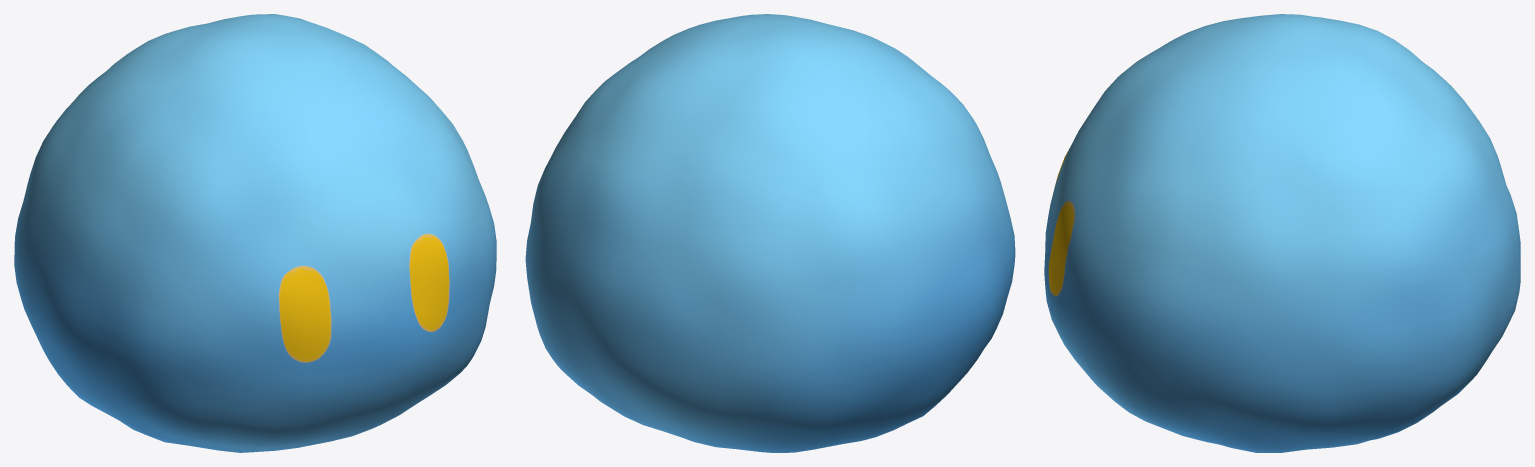
File: 1st Floor Monster Slime.fbx
3 views of the same model, side by side, from view 1: azimuth 30°, elevation 25°; view 2: azimuth 150°, elevation 25°; view 3: azimuth 270°, elevation 25° (orthographic).
Parts seen in each view (by area): view 1: body; view 2: body; view 3: body.
Boxes of the visible parts, <box> form: body: <box>14,14,496,452</box>; body: <box>525,14,1015,452</box>; body: <box>1044,14,1520,452</box>.
Bounding box in the file's own units: 1.29 × 1.14 × 1.29.
1 material, 1 textured.
